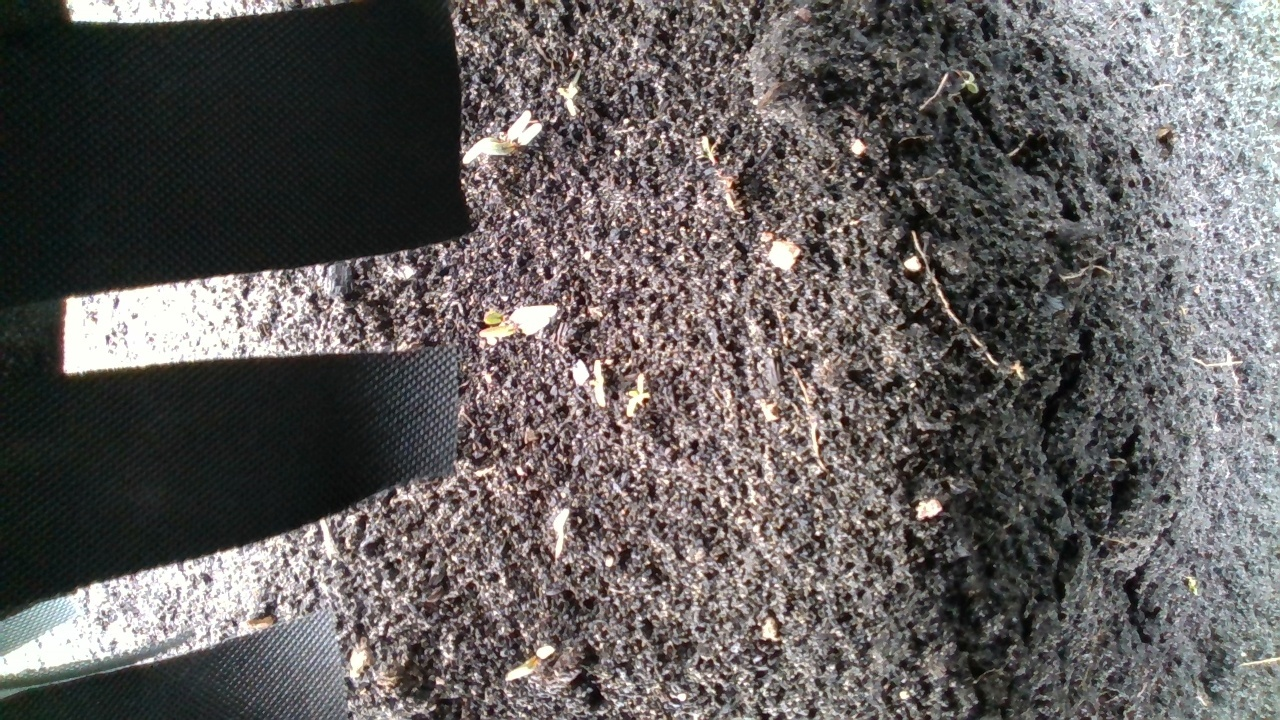weed: (545, 505, 574, 565)
